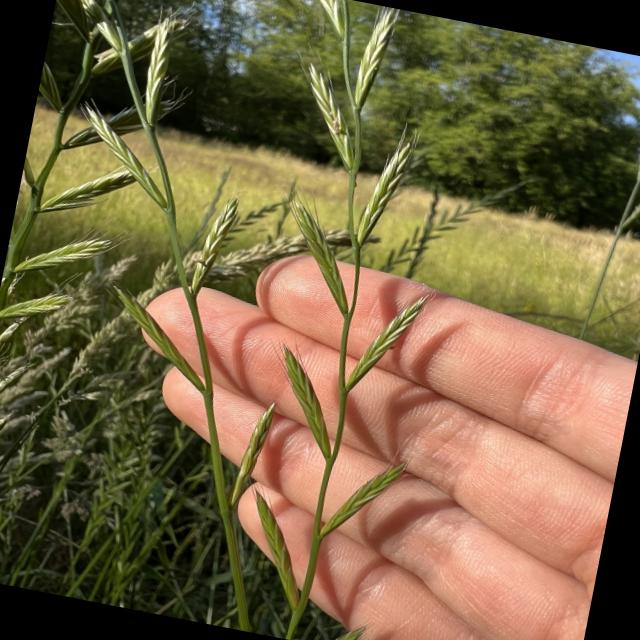Lolium: (170, 0, 498, 640), (0, 0, 340, 531)
